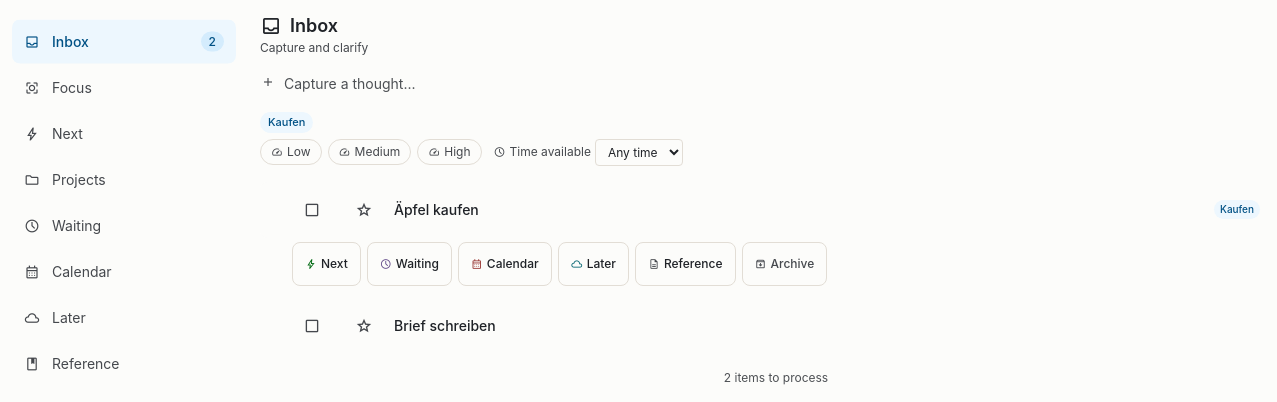
BucketView – type filter chips › clicking type chip filters the list to matching items only
Expected: the button "Äpfel kaufen" is shown, left=394, top=200, right=1158, bottom=220
Expected: the button "Brief schreiben" is shown, left=394, top=316, right=1212, bottom=336
Click the button with aria-label "Filter by type: Kaufen".
click(287, 122)  # box left=260, top=112, right=313, bottom=132
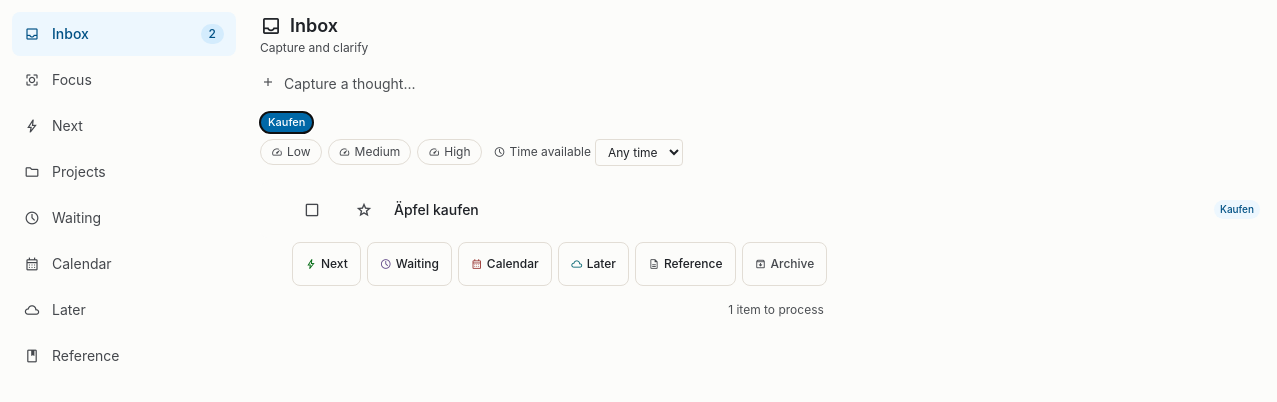
Expected: the button "Äpfel kaufen" is shown, left=394, top=200, right=1158, bottom=220
Expected: the button "Brief schreiben" is gone
